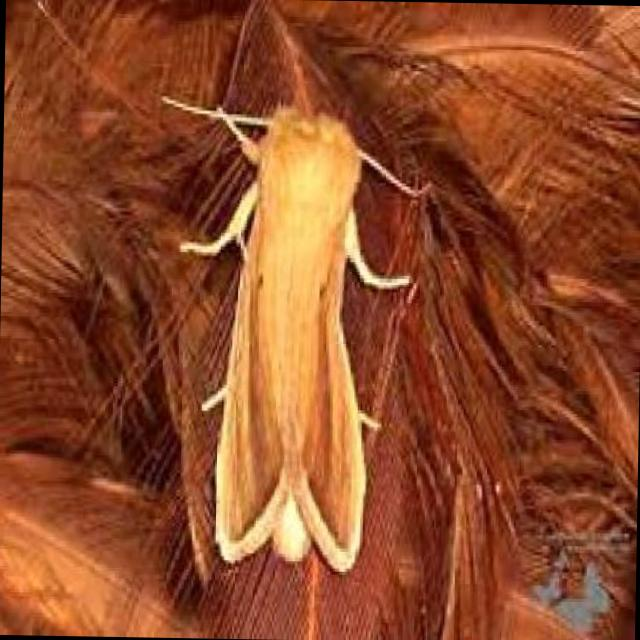stem-borer: (206, 94, 385, 577)
